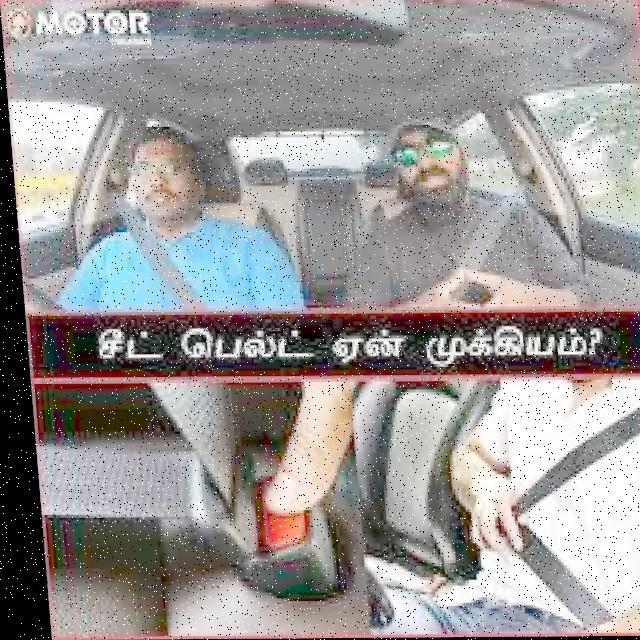seatbelt: (339, 184, 578, 311), (86, 195, 258, 314)
